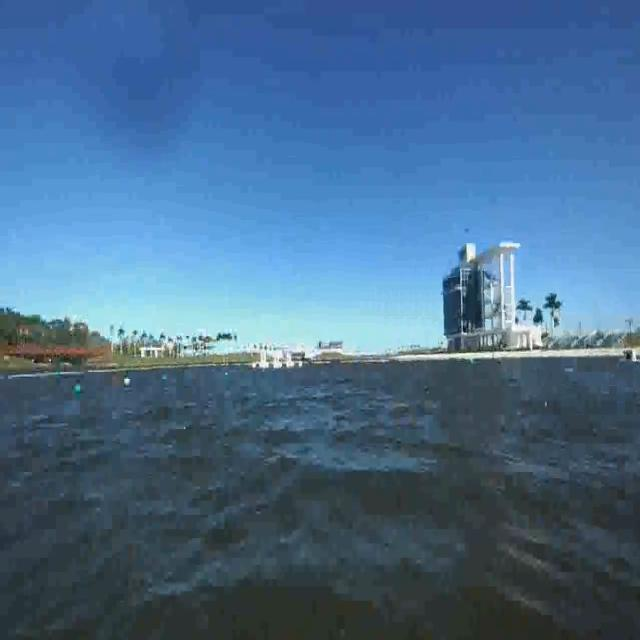green-buoy: (74, 385, 82, 394)
yellow-buoy: (122, 376, 130, 386)
